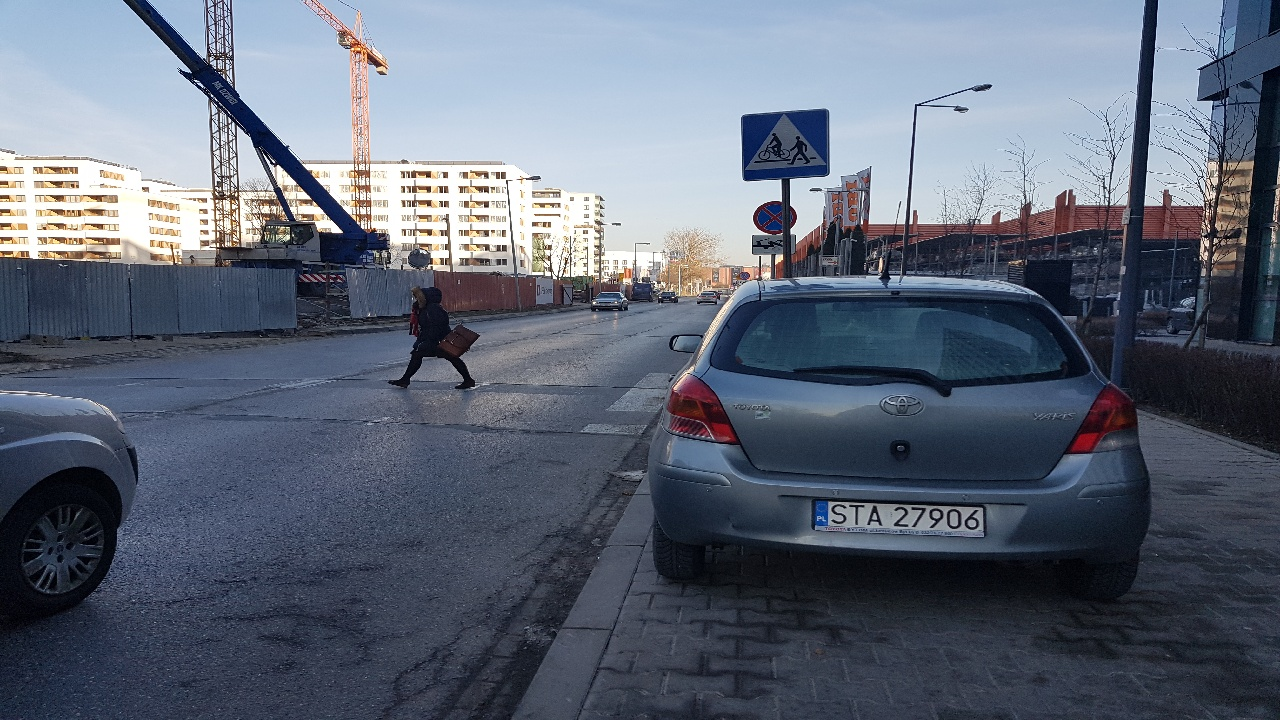B35: (750, 198, 797, 233)
D6b: (733, 106, 841, 181)
